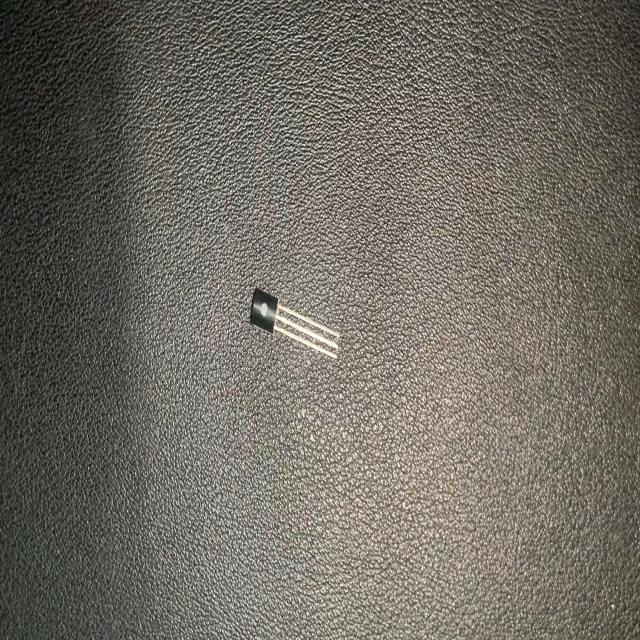BJT: (251, 287, 339, 359)
